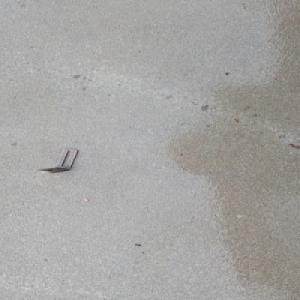MetalPart: (35, 147, 79, 173)
